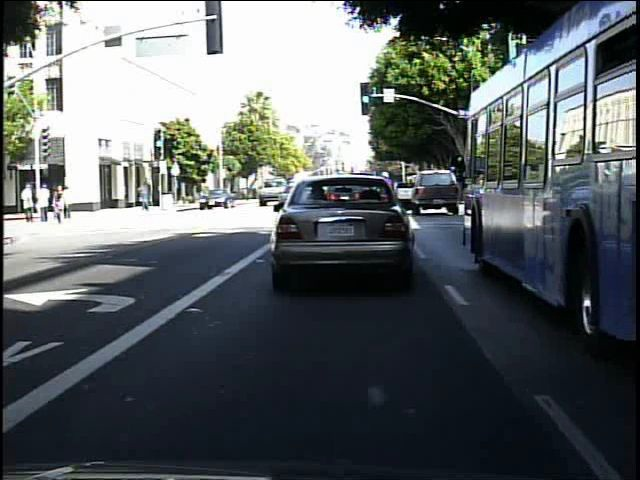person: (19, 180, 38, 224), (135, 179, 154, 215), (38, 181, 53, 223), (53, 184, 68, 223), (51, 185, 65, 221), (62, 181, 63, 221)
